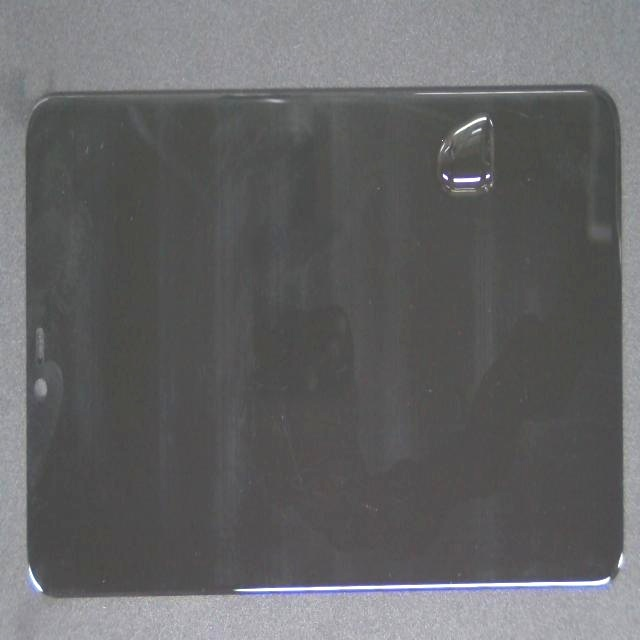oil: (257, 86, 640, 198)
